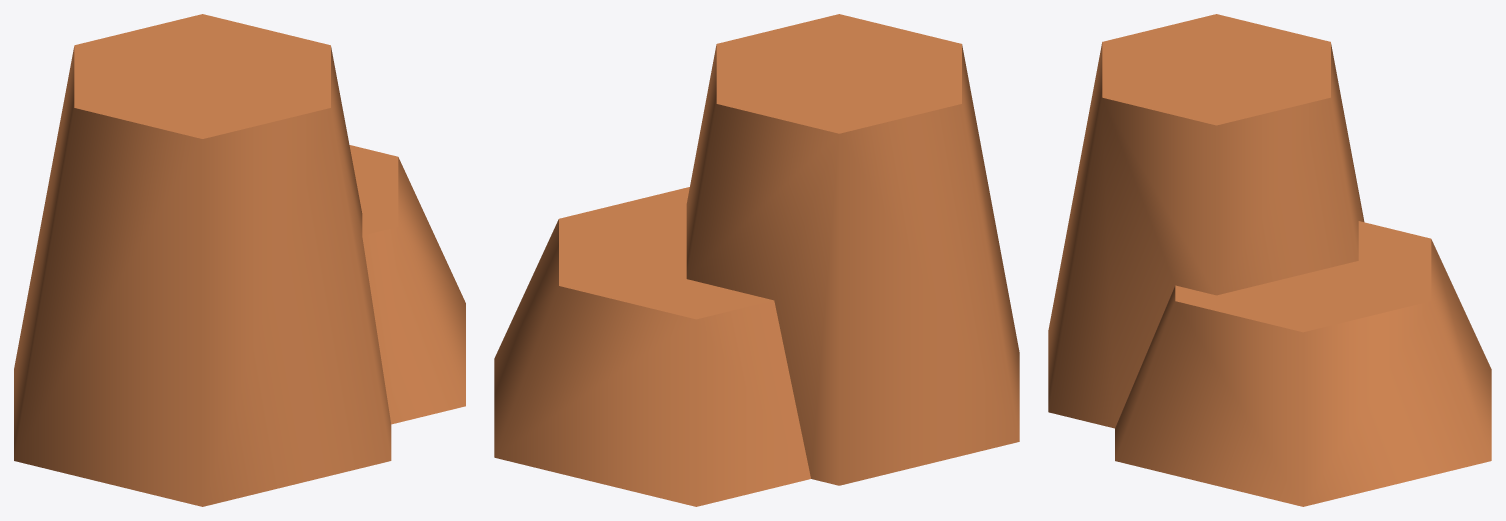
Rendered from copper.glb.
3 renders of one model, left to right at view 1: azimuth 30°, elevation 25°; view 2: azimuth 150°, elevation 25°; view 3: azimuth 270°, elevation 25°, orthographic. The views are drawn at different scales.
Parts seen in each view (by area): view 1: resource-stone; view 2: resource-stone; view 3: resource-stone.
Part boxes in pixels (box(x1,y1,x2,y2)): resource-stone: box(14, 14, 465, 506); resource-stone: box(494, 14, 1019, 506); resource-stone: box(1048, 14, 1491, 506).
Bounding box in the file's own units: 1.3 × 0.8397 × 1.12.
